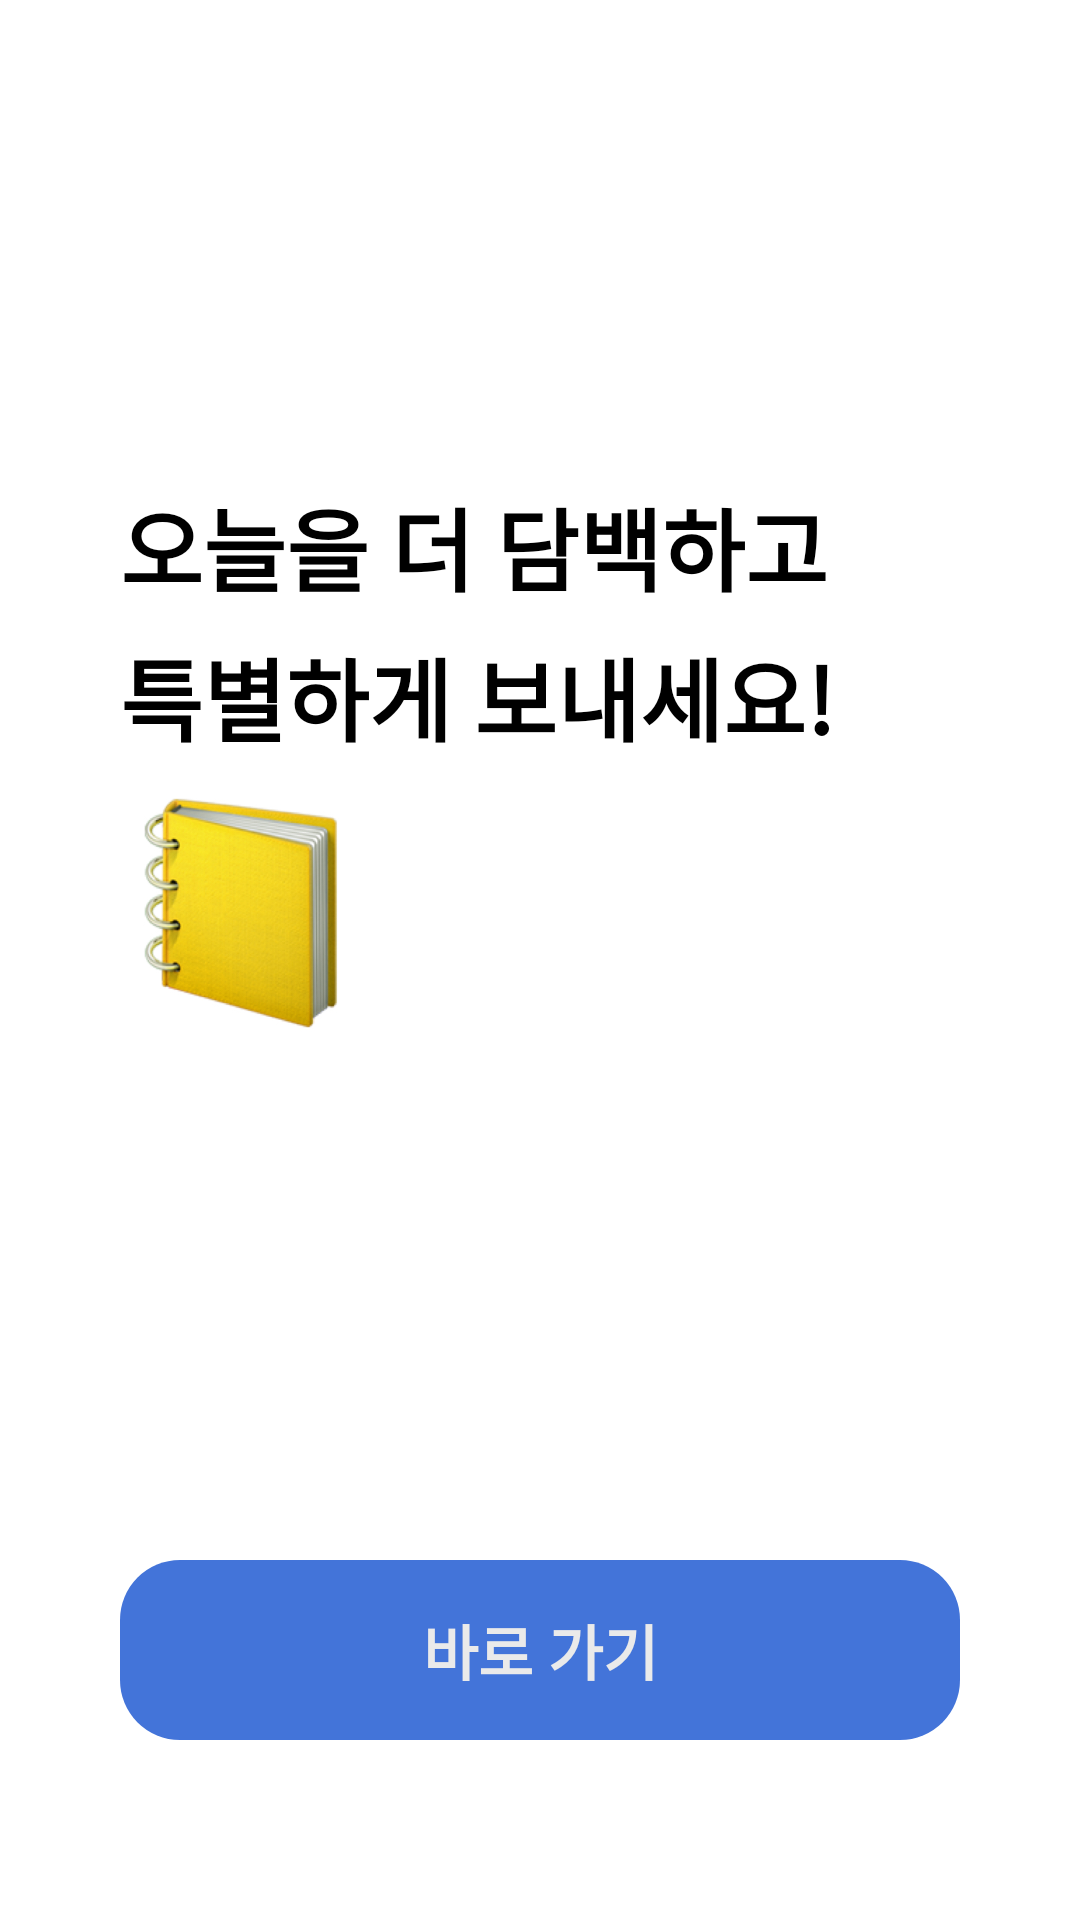

Icon bounding boxes for this 1080 × 1920 phone screenshot, format region(x1, y1, x2, y2):
note: region(145, 799, 337, 1028)
